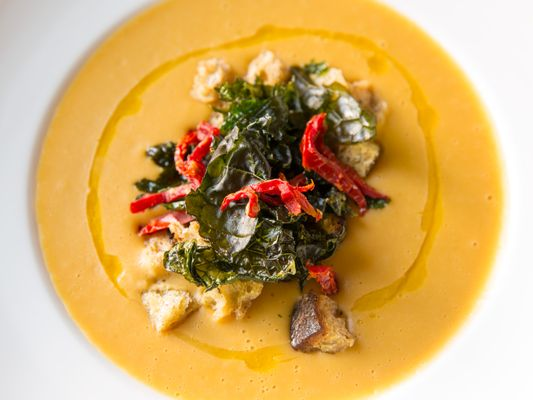sushi: (17, 1, 510, 398)
